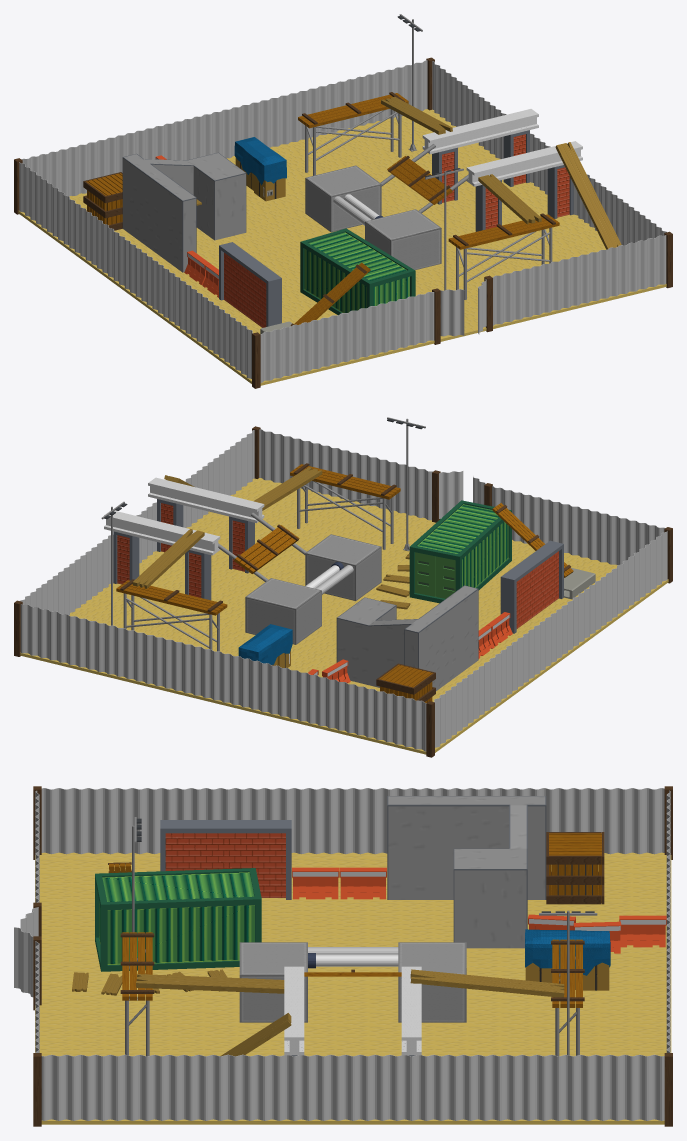
The model's file is Main Map.fbx.
3 views of the same model, one above another, from view 1: azimuth 30°, elevation 25°; view 2: azimuth 150°, elevation 25°; view 3: azimuth 270°, elevation 25° (orthographic). The views are drawn at different scales.
Visible parts, largest first — view 1: Map Barrier, Ground, Concrete_Wall, Concrete_Block, Container, Brick_Wall, Scaffolding1, Scaffolding2, Cardboard_Box, Steel_Beam2, Brick_Pillar1, Steel_Beam1 (+7 smaller); view 2: Map Barrier, Ground, Concrete_Wall, Concrete_Block, Container, Brick_Wall, Scaffolding2, Scaffolding1, Brick_Pillar2, Steel_Beam1, Steel_Beam2, Brick_Pillar1 (+10 smaller); view 3: Map Barrier, Ground, Concrete_Wall, Container, Concrete_Block, Brick_Wall, Wooden_Crate, Cardboard_Box, Scaffolding1, Scaffolding2, Wooden_Plank1, Wooden_Plank2 (+11 smaller).
Part boxes in pixels (box(x1,y1,x2,y2)): Map Barrier: box(14, 57, 672, 388); Ground: box(18, 109, 666, 385); Concrete_Wall: box(122, 152, 246, 272); Concrete_Block: box(305, 144, 468, 269); Container: box(300, 228, 415, 315); Brick_Wall: box(219, 242, 281, 327); Scaffolding1: box(448, 213, 559, 299); Scaffolding2: box(298, 92, 408, 175); Cardboard_Box: box(234, 137, 286, 201); Steel_Beam2: box(422, 109, 538, 154); Brick_Pillar1: box(475, 165, 573, 231); Steel_Beam1: box(466, 141, 582, 186); Map Barrier: box(14, 426, 672, 757); Ground: box(20, 478, 668, 754); Concrete_Wall: box(336, 585, 478, 690); Concrete_Block: box(218, 512, 381, 644); Container: box(409, 500, 511, 603); Brick_Wall: box(500, 540, 563, 633); Scaffolding2: box(116, 579, 227, 651); Scaffolding1: box(290, 463, 400, 549); Brick_Pillar2: box(113, 531, 211, 600); Steel_Beam1: box(148, 477, 264, 523); Steel_Beam2: box(104, 510, 220, 555); Brick_Pillar1: box(157, 499, 254, 573); Map Barrier: box(14, 786, 672, 1126); Ground: box(35, 852, 671, 1124); Concrete_Wall: box(387, 796, 546, 948); Container: box(95, 868, 261, 971); Concrete_Block: box(239, 942, 466, 1022); Brick_Wall: box(160, 820, 291, 899); Wooden_Crate: box(546, 832, 604, 904); Cardboard_Box: box(525, 929, 610, 990); Scaffolding1: box(120, 932, 154, 1056); Scaffolding2: box(551, 939, 584, 1056); Wooden_Plank1: box(410, 969, 564, 997); Wooden_Plank2: box(136, 974, 284, 993).
Bounding box in the file's own units: 2471 × 749 × 2517.
